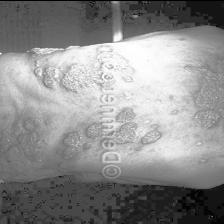Toxin: (141, 126, 163, 146), (61, 131, 81, 147)
